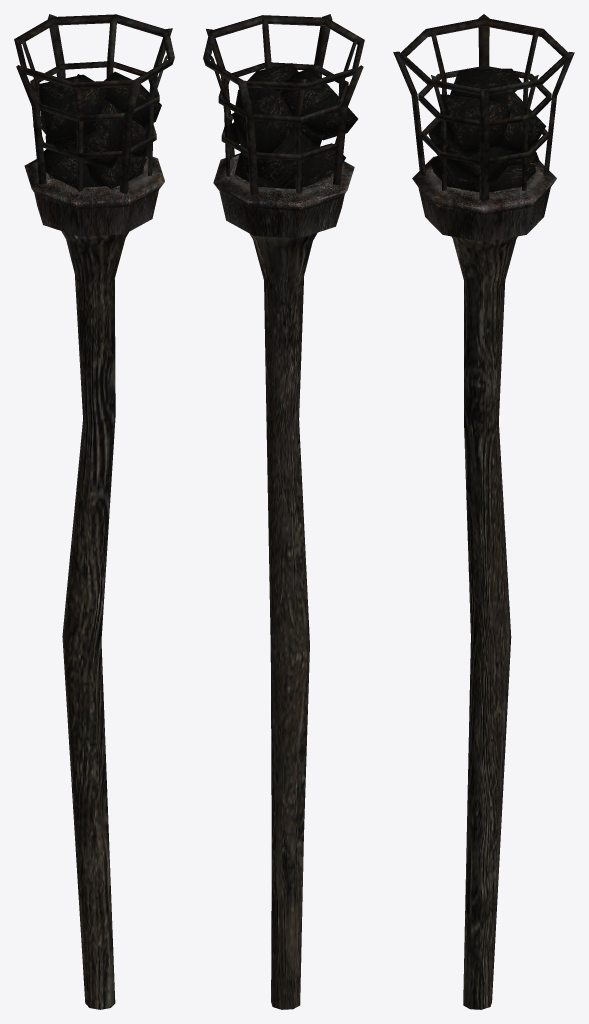
File: G3_Object_Torch_01.obj
3 renders of one model, left to right at view 1: azimuth 30°, elevation 25°; view 2: azimuth 150°, elevation 25°; view 3: azimuth 270°, elevation 25°, orthographic.
Visible parts, largest first — view 1: G3_Object_Torch_01_0; view 2: G3_Object_Torch_01_0; view 3: G3_Object_Torch_01_0.
Part boxes in pixels (x1=…): G3_Object_Torch_01_0: x1=14, y1=14, x2=174, y2=1009; G3_Object_Torch_01_0: x1=203, y1=14, x2=364, y2=1009; G3_Object_Torch_01_0: x1=393, y1=14, x2=574, y2=1009.
Size of the model in its own units: 0.3039 by 1.77 by 0.3058.
Materials: 1 (1 with a texture image).
